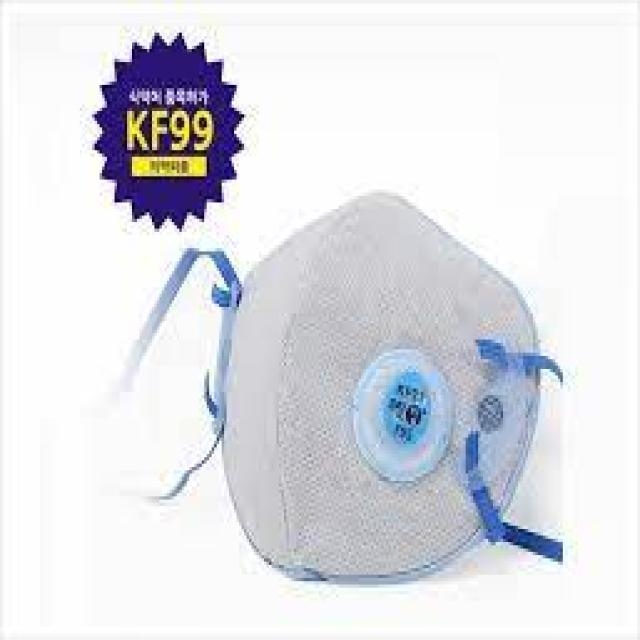mask: (179, 182, 562, 597)
